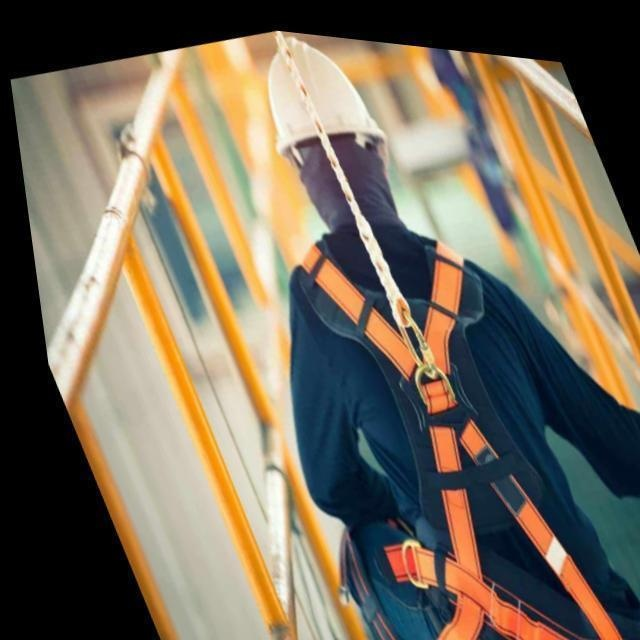Arnes_seguridad: (295, 235, 629, 639)
